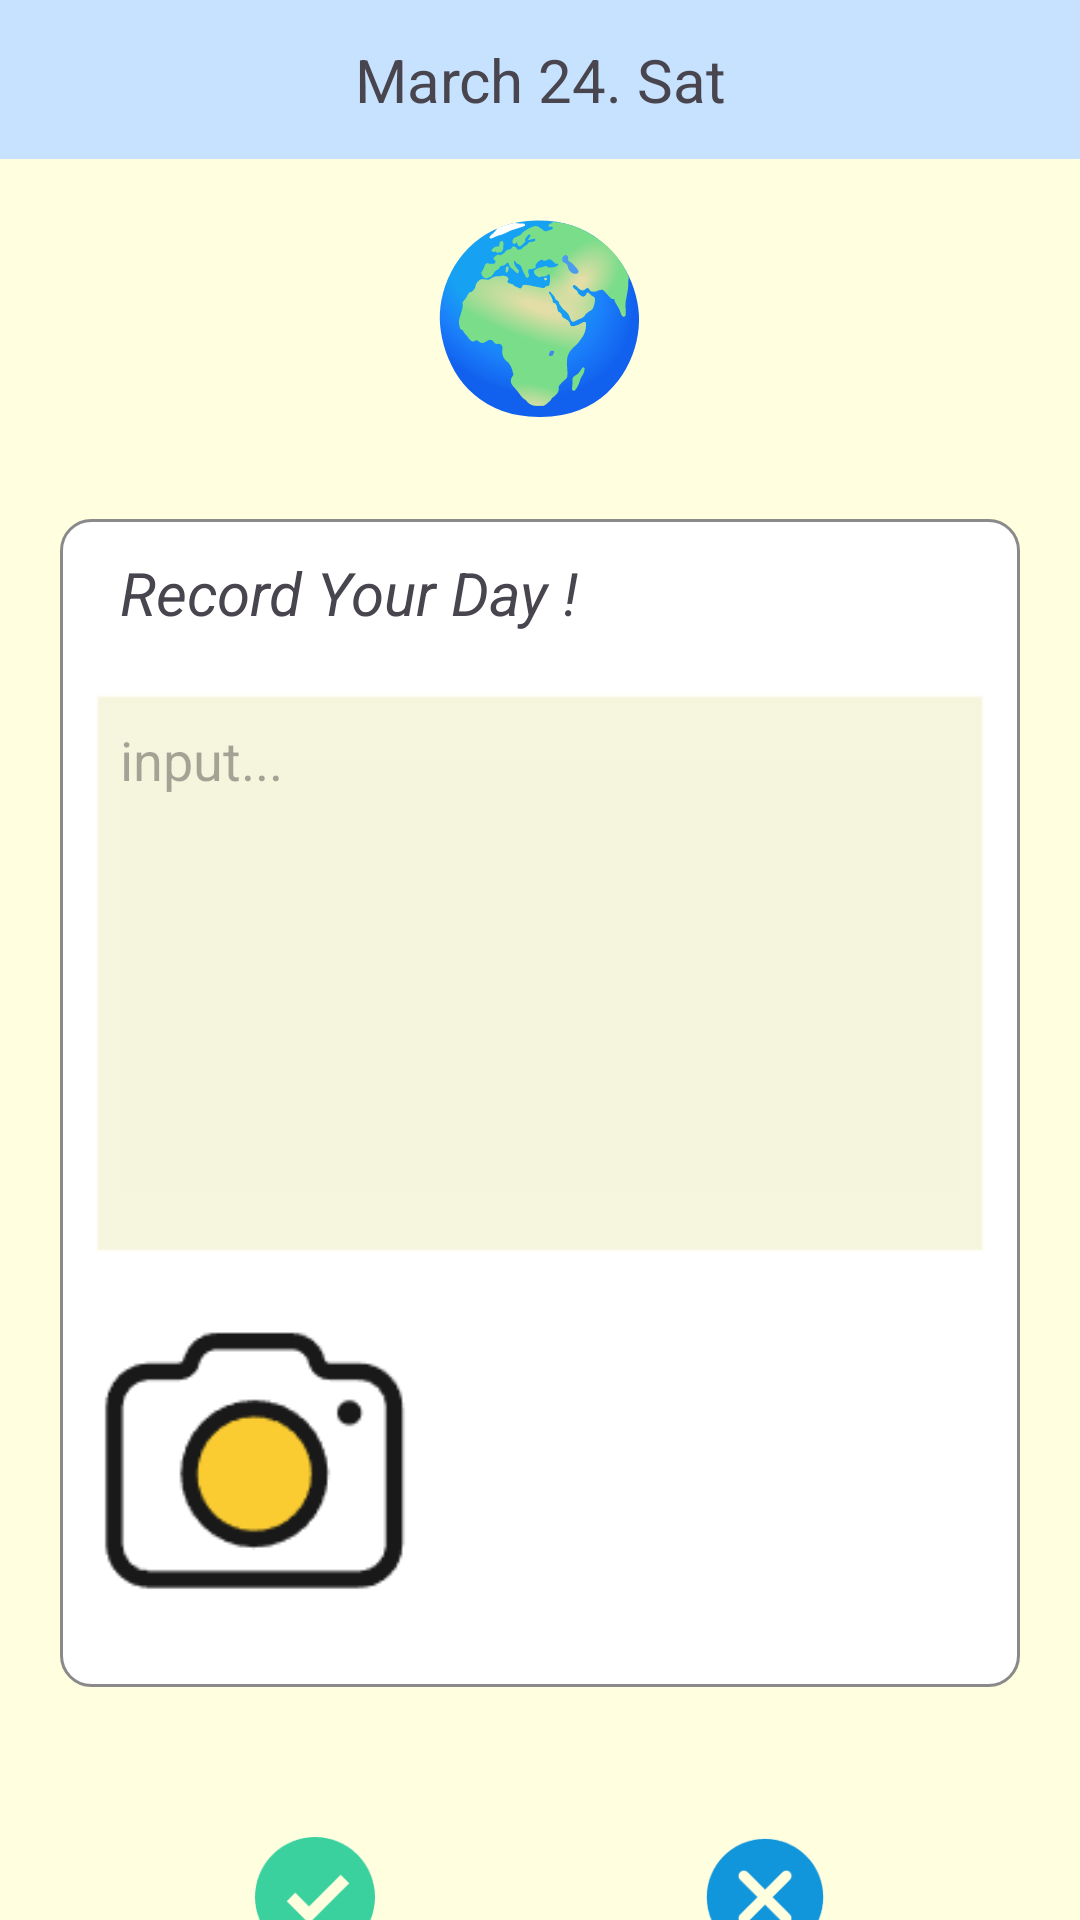

Icon bounding boxes for this 1080px×1920px phone screenshot, format [x1,y1,x2,y2]:
photo: [105,1332,405,1589]
